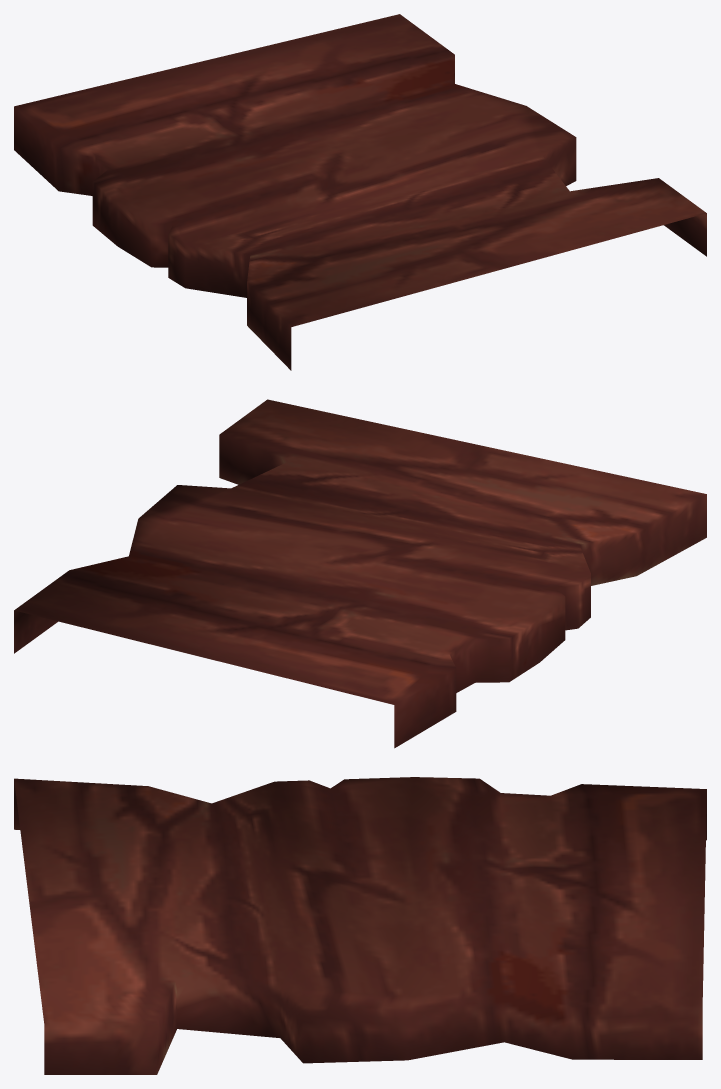
The model's file is terrain05_1.FBX.
The picture shows the model from 3 angles, top to bottom: view 1: azimuth 30°, elevation 25°; view 2: azimuth 150°, elevation 25°; view 3: azimuth 270°, elevation 25°; orthographic projection. The views are drawn at different scales.
Parts seen in each view (by area): view 1: terrain05-1; view 2: terrain05-1; view 3: terrain05-1.
Boxes of the visible parts, x1,y1,x2,y2 form: terrain05-1: (14,14,706,370); terrain05-1: (14,399,706,748); terrain05-1: (14,777,706,1074).
Bounding box in the file's own units: 537 × 637 × 51.91.
